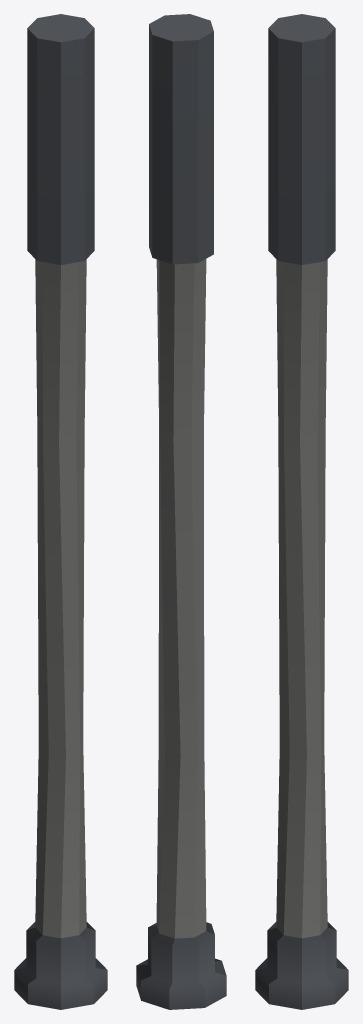
The model's file is SM_Prop_Billboard_Pole_01.fbx.
The picture shows the model from 3 angles, left to right: view 1: azimuth 90°, elevation 25°; view 2: azimuth 210°, elevation 25°; view 3: azimuth 270°, elevation 25°; orthographic projection.
Visible parts, largest first — view 1: SM_Prop_Billboard_Pole_01; view 2: SM_Prop_Billboard_Pole_01; view 3: SM_Prop_Billboard_Pole_01.
Part boxes in pixels (box(x1,y1,x2,y2)): SM_Prop_Billboard_Pole_01: box(14, 14, 107, 1009); SM_Prop_Billboard_Pole_01: box(136, 14, 226, 1009); SM_Prop_Billboard_Pole_01: box(255, 14, 348, 1009).
Bounding box in the file's own units: 60.62 × 690 × 60.62.
